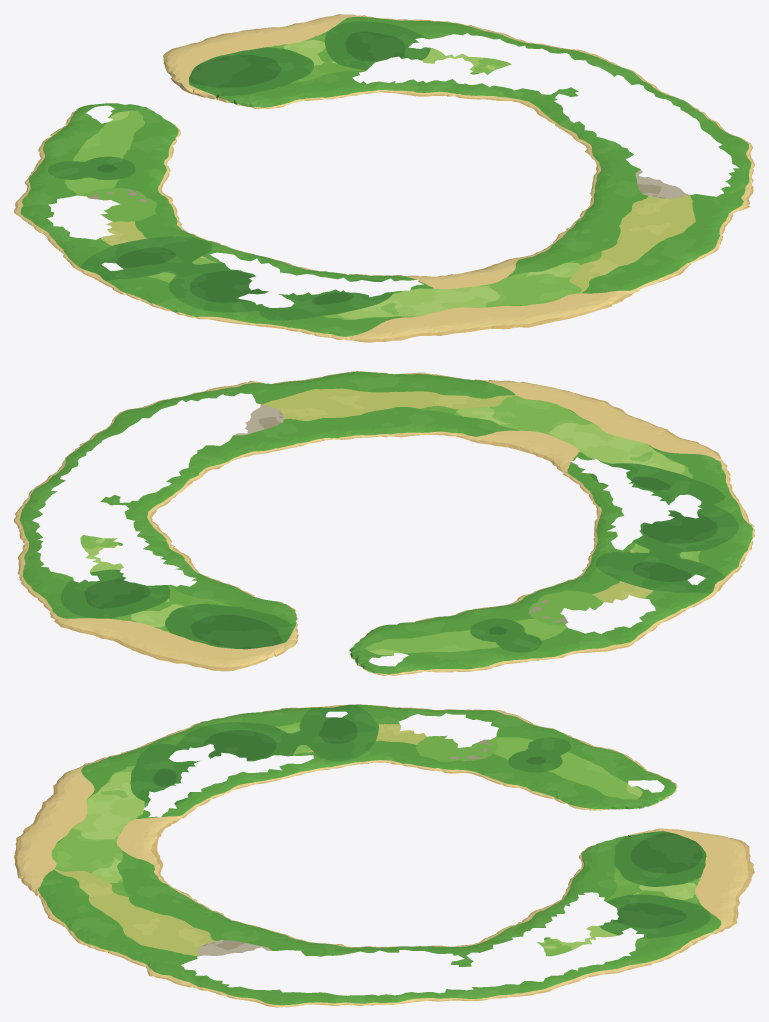
The model's file is Isl-atoll4-Ground.fbx.
The picture shows the model from 3 angles, top to bottom: view 1: azimuth 30°, elevation 25°; view 2: azimuth 150°, elevation 25°; view 3: azimuth 270°, elevation 25°; orthographic projection. The views are drawn at different scales.
Visible parts, largest first — view 1: Isl-atoll4-Ground-c11, Isl-atoll4-Ground-c21, Isl-atoll4-Ground-c12, Isl-atoll4-Ground-c22, Isl-atoll4-Ground-c23, Isl-atoll4-Ground-c01, Isl-atoll4-Ground-c10, Isl-atoll4-Ground-c20, Isl-atoll4-Ground-c02; view 2: Isl-atoll4-Ground-c11, Isl-atoll4-Ground-c21, Isl-atoll4-Ground-c12, Isl-atoll4-Ground-c22, Isl-atoll4-Ground-c23, Isl-atoll4-Ground-c01, Isl-atoll4-Ground-c02, Isl-atoll4-Ground-c13; view 3: Isl-atoll4-Ground-c11, Isl-atoll4-Ground-c21, Isl-atoll4-Ground-c12, Isl-atoll4-Ground-c22, Isl-atoll4-Ground-c23, Isl-atoll4-Ground-c20, Isl-atoll4-Ground-c10.
Part boxes in pixels (x1,y1,x2,y2): Isl-atoll4-Ground-c11: (77,229,562,342); Isl-atoll4-Ground-c21: (499,105,754,307); Isl-atoll4-Ground-c12: (15,50,283,252); Isl-atoll4-Ground-c22: (212,15,691,135); Isl-atoll4-Ground-c23: (198,14,356,49); Isl-atoll4-Ground-c01: (67,254,142,301); Isl-atoll4-Ground-c10: (491,308,572,329); Isl-atoll4-Ground-c20: (563,292,633,317); Isl-atoll4-Ground-c02: (14,207,83,259); Isl-atoll4-Ground-c11: (490,395,754,599); Isl-atoll4-Ground-c21: (73,371,554,481); Isl-atoll4-Ground-c12: (204,575,684,675); Isl-atoll4-Ground-c22: (14,451,274,651); Isl-atoll4-Ground-c23: (54,619,202,664); Isl-atoll4-Ground-c01: (685,555,746,603); Isl-atoll4-Ground-c02: (617,598,698,648); Isl-atoll4-Ground-c13: (189,652,246,671); Isl-atoll4-Ground-c11: (30,708,381,858); Isl-atoll4-Ground-c21: (31,855,380,1005); Isl-atoll4-Ground-c12: (378,708,727,858); Isl-atoll4-Ground-c22: (378,854,729,1004); Isl-atoll4-Ground-c23: (722,856,754,928); Isl-atoll4-Ground-c20: (14,855,38,892); Isl-atoll4-Ground-c10: (14,824,37,858).
Size of the model in its own units: 109 by 0.4896 by 113.
